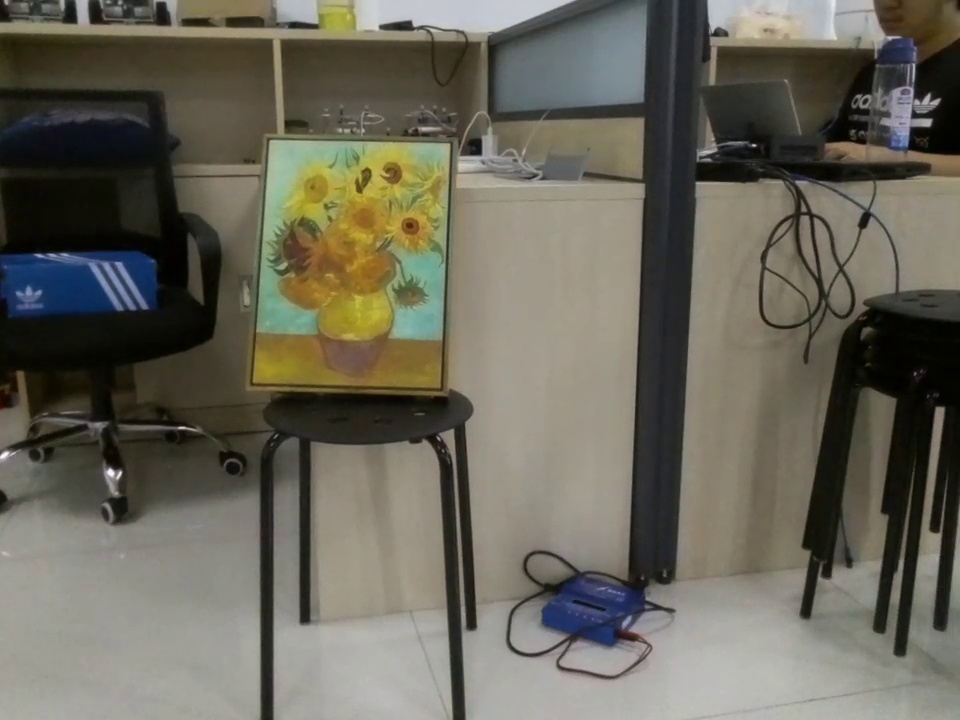painting: (242, 131, 463, 404)
